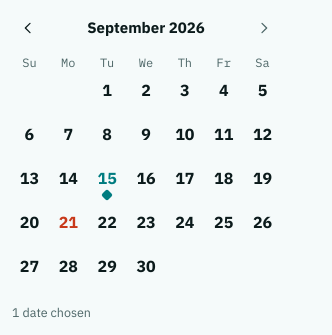
Scenario: MultiDatePicker › moves to another month without losing what was chosen in this one
Click the button named "Next month": (264, 28) [248,12,280,44]
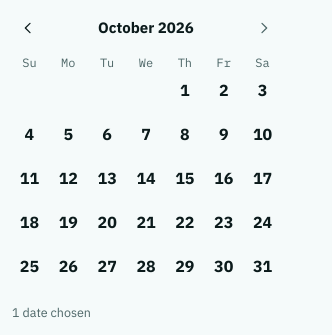
Expected: the text "October 2026" is shown, [98,16,194,40]
